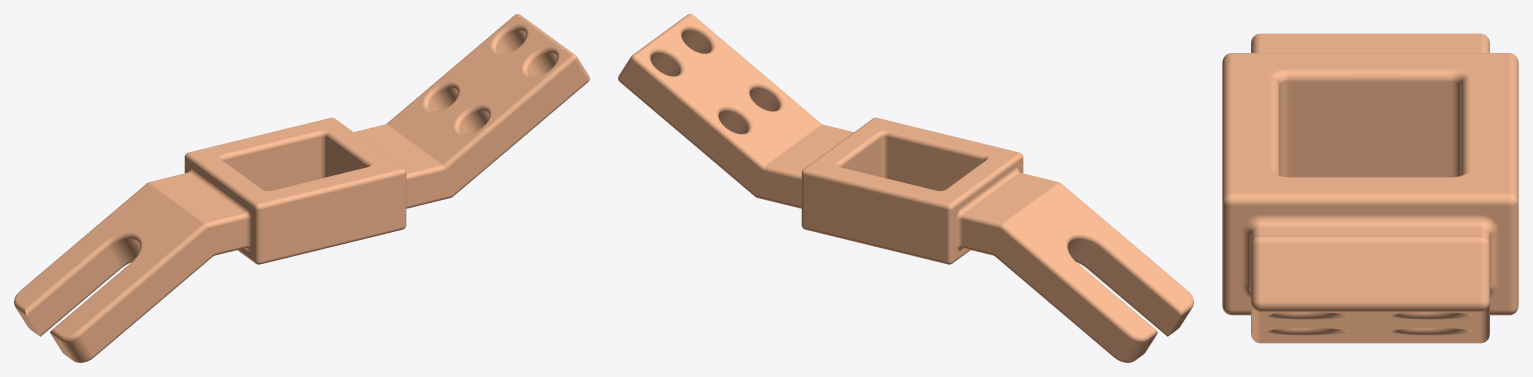
The model's file is Practice20_1.glb.
3 renders of one model, left to right at view 1: azimuth 30°, elevation 25°; view 2: azimuth 150°, elevation 25°; view 3: azimuth 270°, elevation 25°, orthographic. The views are drawn at different scales.
Parts seen in each view (by area): view 1: Default - Part; view 2: Default - Part; view 3: Default - Part.
Part boxes in pixels (left/top/right/bottom): Default - Part: left=14, top=14, right=589, bottom=362; Default - Part: left=618, top=14, right=1193, bottom=362; Default - Part: left=1222, top=33, right=1518, bottom=343.
Size of the model in its own units: 0.2532 by 0.0884 by 0.062.
